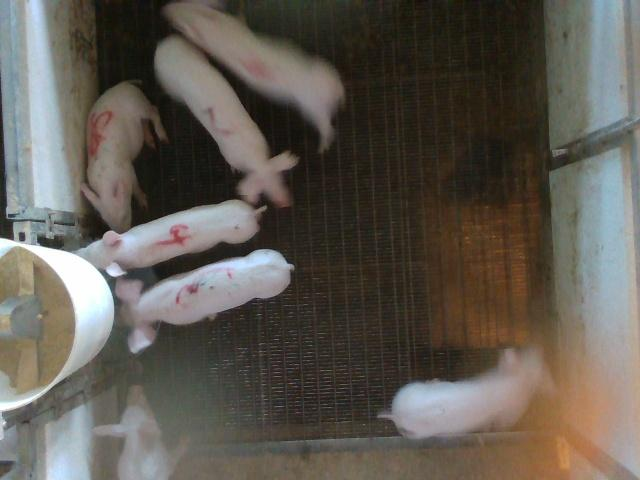pig-1: (162, 2, 345, 152)
pig-2: (154, 35, 298, 207)
pig-3: (115, 249, 294, 352)
pig-4: (75, 200, 265, 276)
pig-5: (81, 80, 168, 232)
